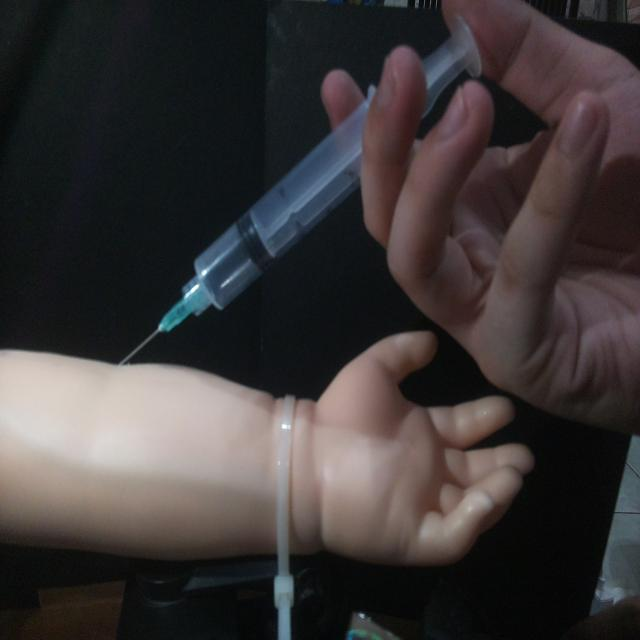30deg: (113, 13, 485, 368)
